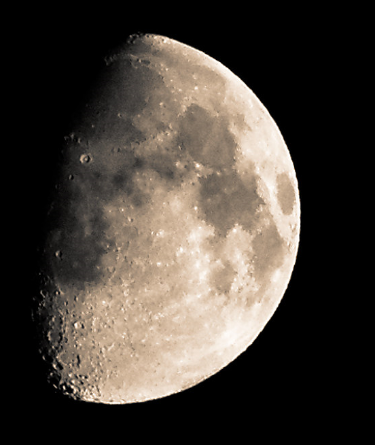crater: (74, 146, 102, 169), (137, 102, 155, 120), (52, 249, 73, 264), (155, 95, 173, 111), (71, 317, 88, 333), (132, 54, 151, 68), (62, 169, 78, 185), (50, 356, 67, 371), (124, 210, 137, 227), (188, 199, 200, 217), (61, 298, 71, 309), (157, 279, 168, 289), (154, 358, 166, 367)
